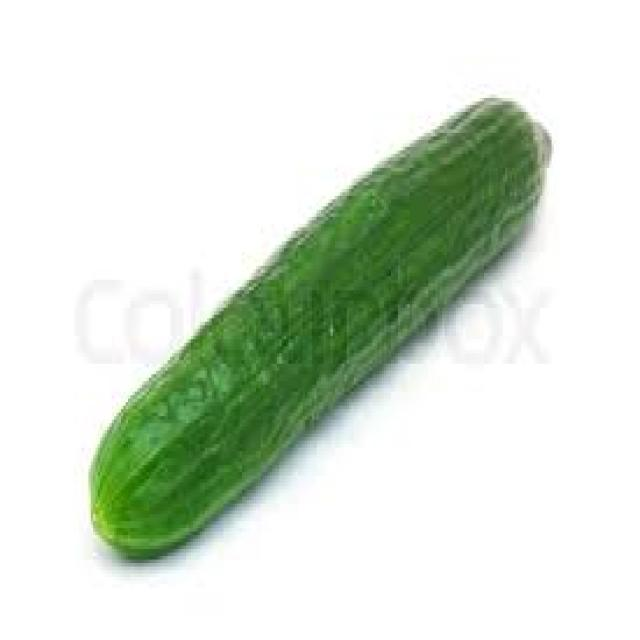cucumber: (86, 91, 552, 559)
